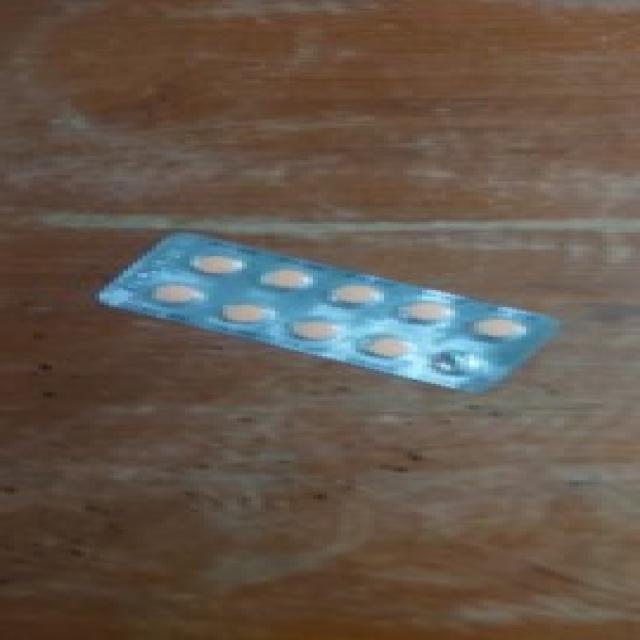Cacat: (88, 230, 562, 395)
Kemasan: (412, 349, 522, 386)
